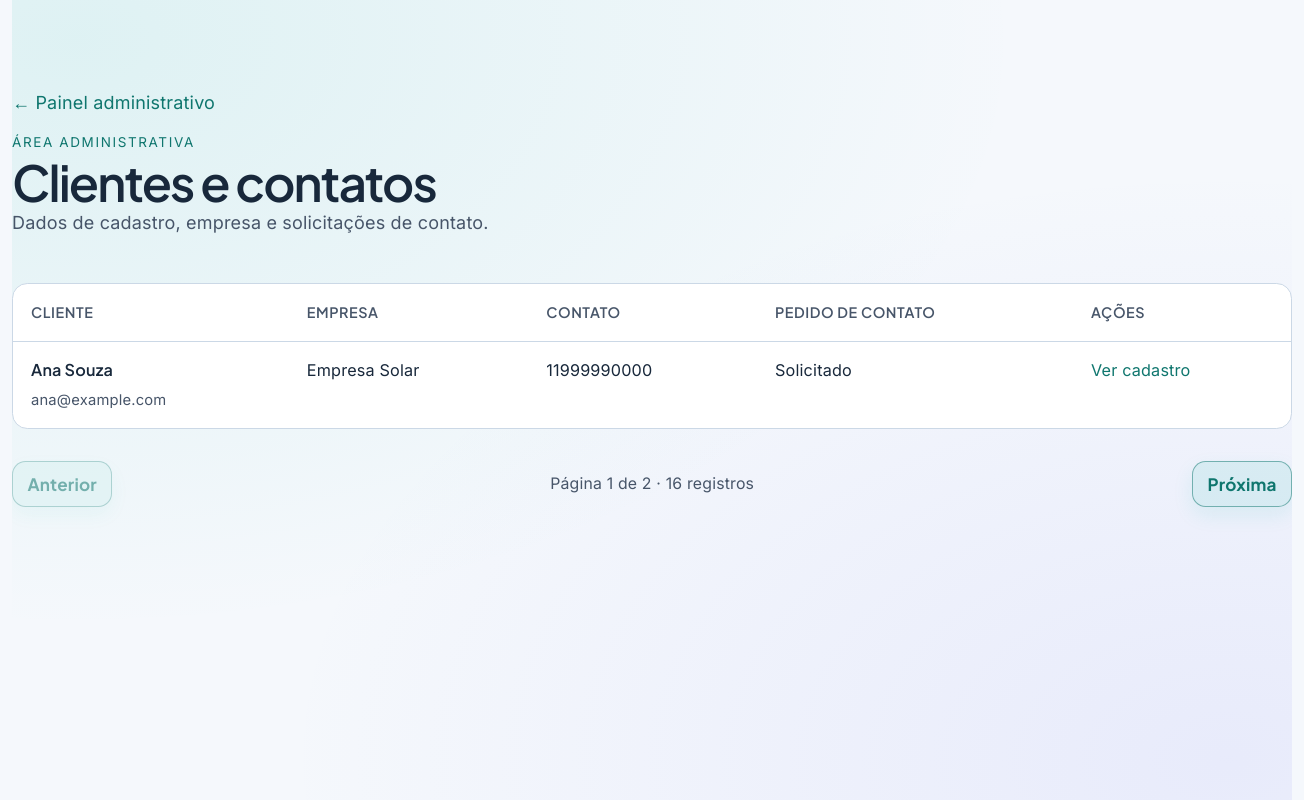
Test: admin customer and simulation pages › lists customers with contact requests and paginates through the API
Check: the text "Empresa Solar" is shown, box [289,341,528,428]
Check: the text "Solicitado" is shown, box [757,341,1073,428]
Click the button "Próxima" at [1242, 484], box [1192,461,1292,507]
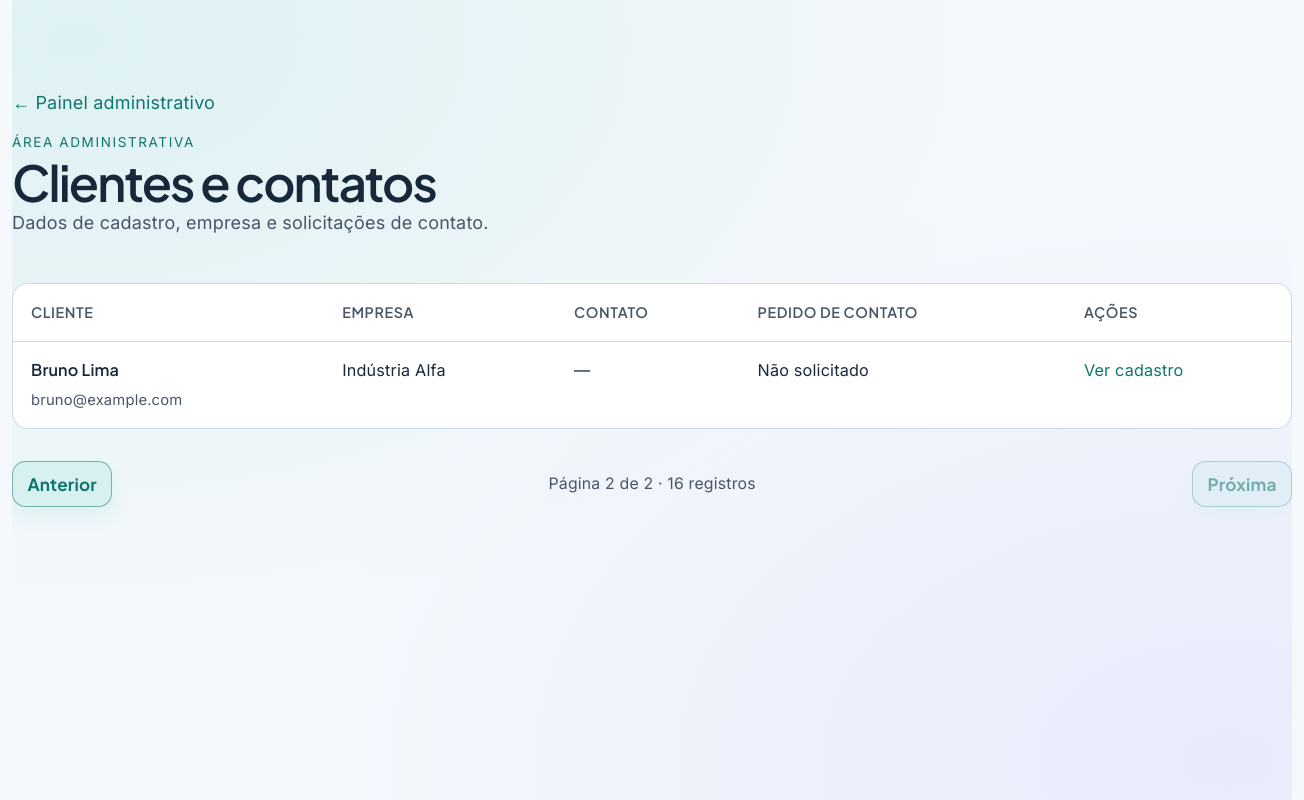
Check: the text "Indústria Alfa" is shown, box [324,341,556,428]
